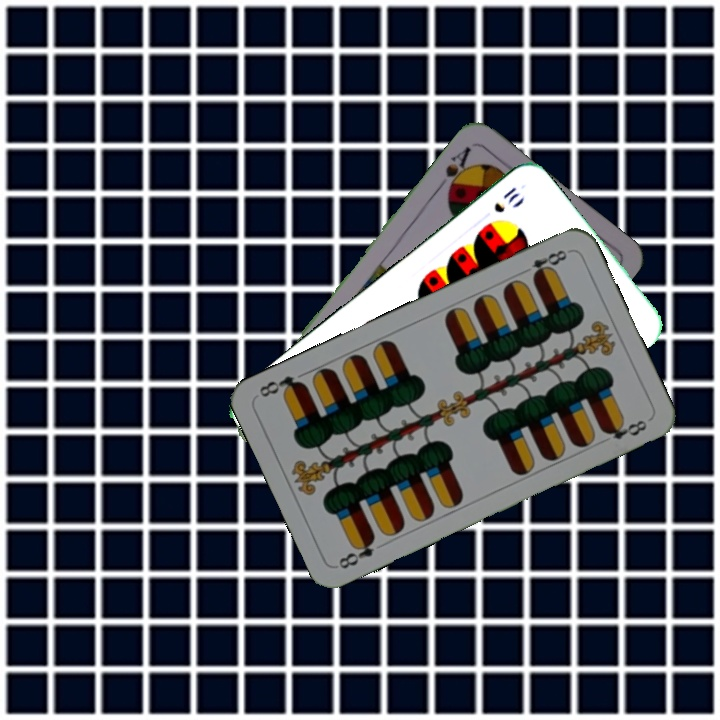E8: (516, 245, 570, 282), (334, 532, 378, 572)
S10: (490, 183, 523, 216)
SA: (433, 142, 474, 198)
